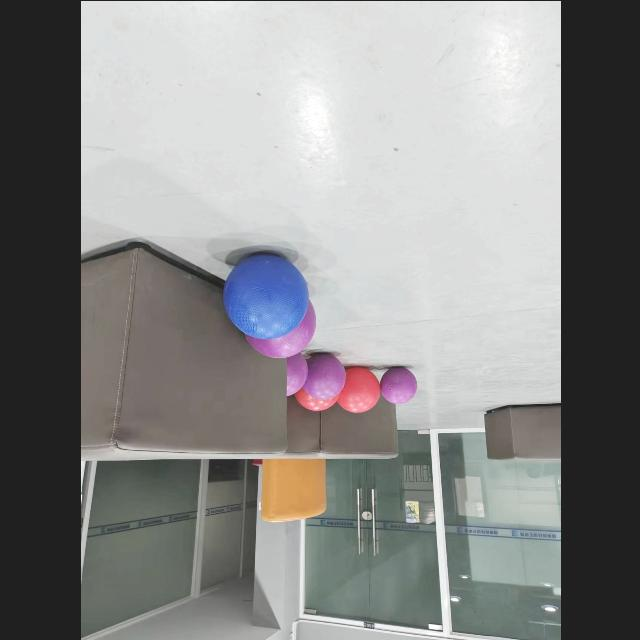B: (222, 254, 308, 339)
P: (245, 301, 315, 358), (302, 352, 345, 399), (379, 366, 416, 404), (285, 351, 306, 395)
R: (336, 366, 380, 411), (294, 387, 339, 410)
